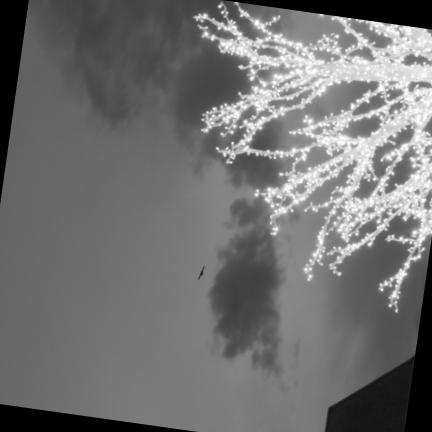Shahed: (197, 264, 204, 278)
